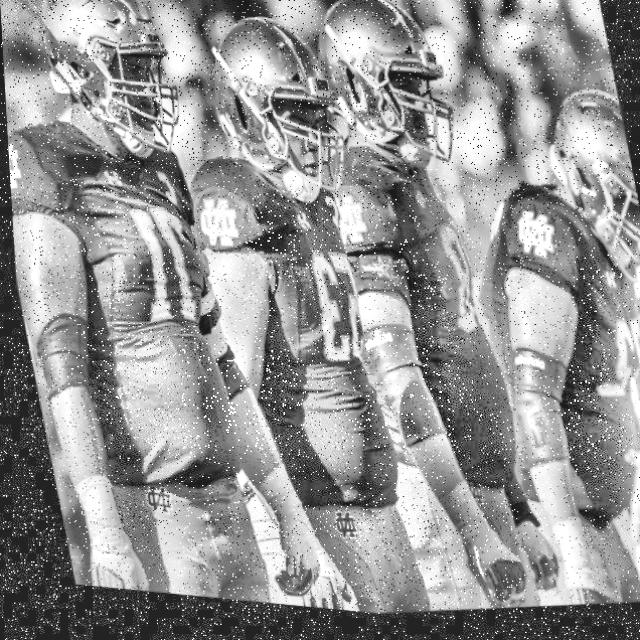Helmet: (192, 7, 358, 225), (300, 0, 472, 196), (25, 0, 192, 187), (528, 73, 640, 298)
